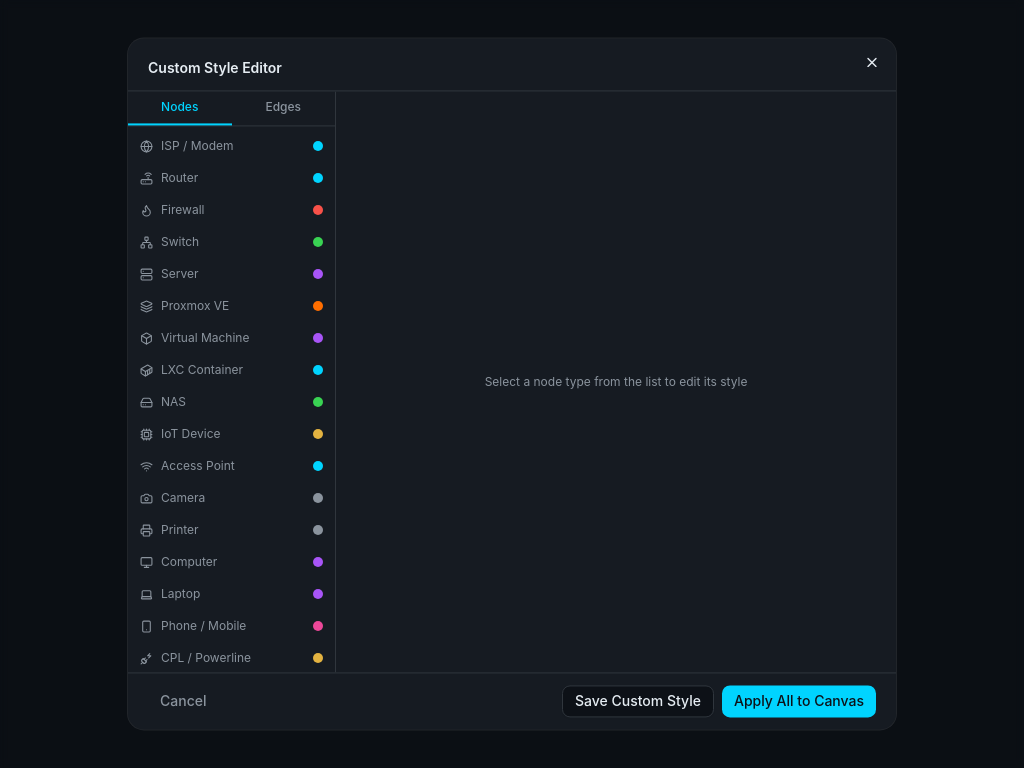
Scenario: CustomStyleModal › switches to edges tab and shows the right placeholder
Click the button "Edges" at coordinates (283, 108), box [232,91,335,125]
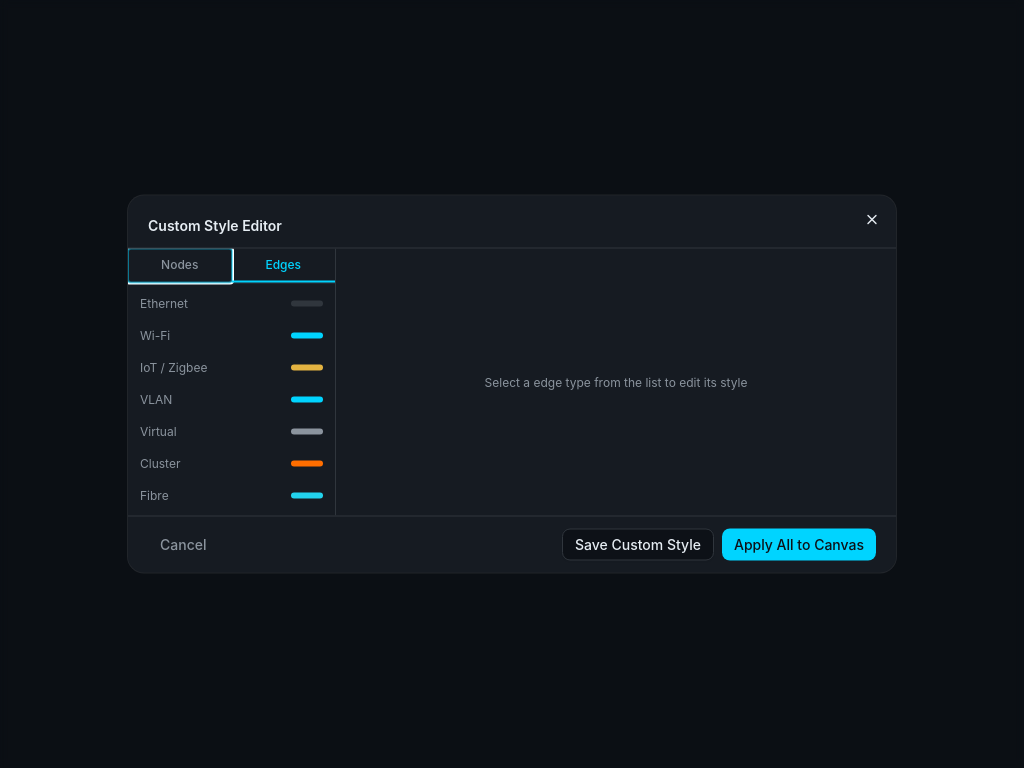
Now the text "Select a edge type from the list to edit its style" is shown, box [485,374,747,389]
